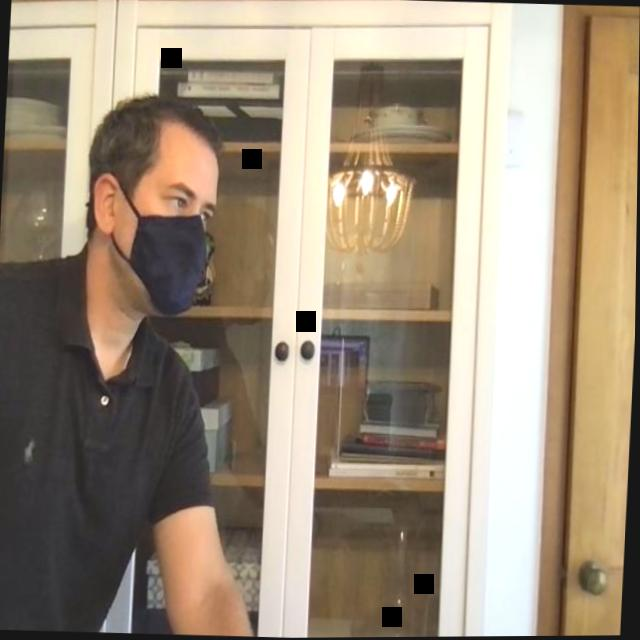Mask: (81, 92, 226, 319)
